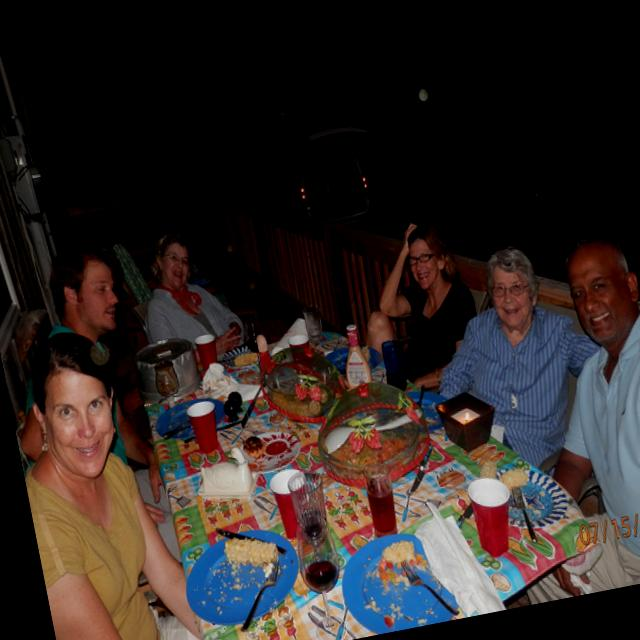Vehicle: (274, 121, 388, 237)
